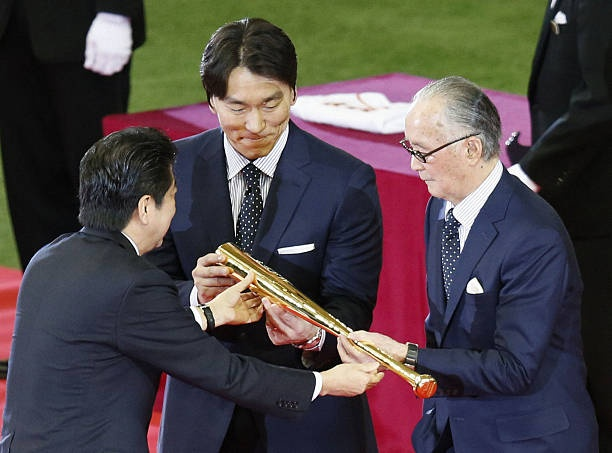bita: (223, 245, 434, 399)
